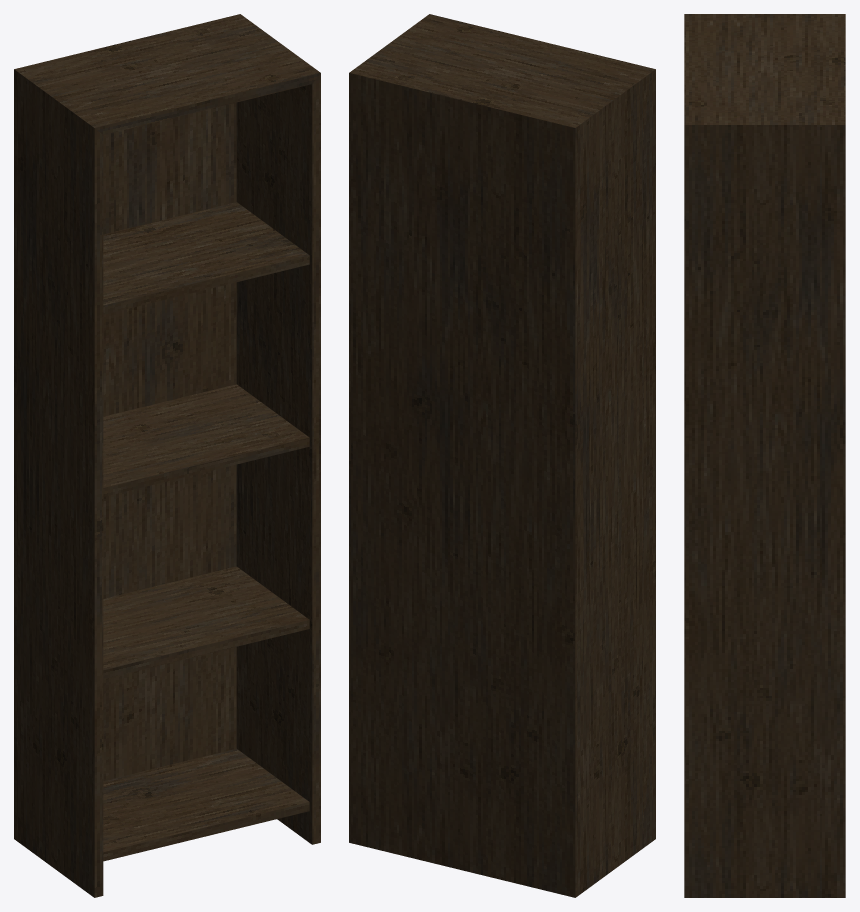
File: shelf_mp_7_3.glb
3 renders of one model, left to right at view 1: azimuth 30°, elevation 25°; view 2: azimuth 150°, elevation 25°; view 3: azimuth 270°, elevation 25°, orthographic.
Visible parts, largest first — view 1: shelf_mp_7_3; view 2: shelf_mp_7_3; view 3: shelf_mp_7_3.
Part boxes in pixels (bbox=[...]): shelf_mp_7_3: bbox=[14, 14, 320, 897]; shelf_mp_7_3: bbox=[349, 14, 655, 897]; shelf_mp_7_3: bbox=[684, 14, 845, 897].
Size of the model in its own units: 0.52 by 1.69 by 0.32.
1 material, 1 textured.
